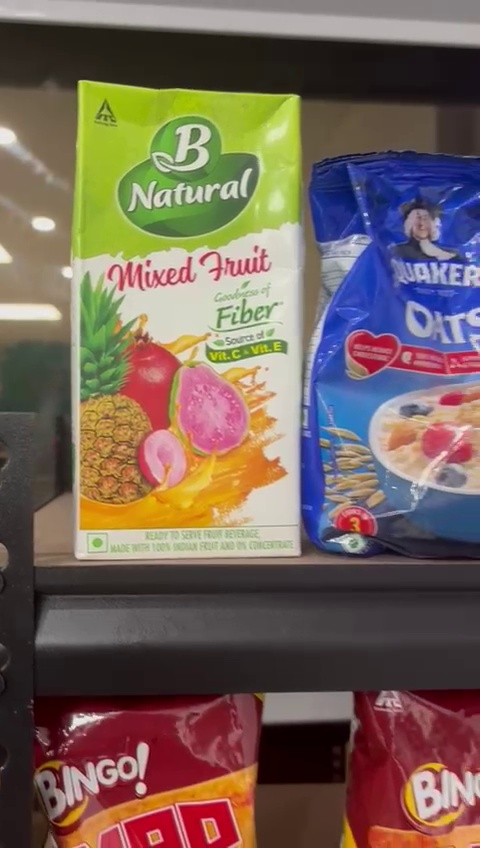Mixed Fruit: (79, 79, 304, 560)
